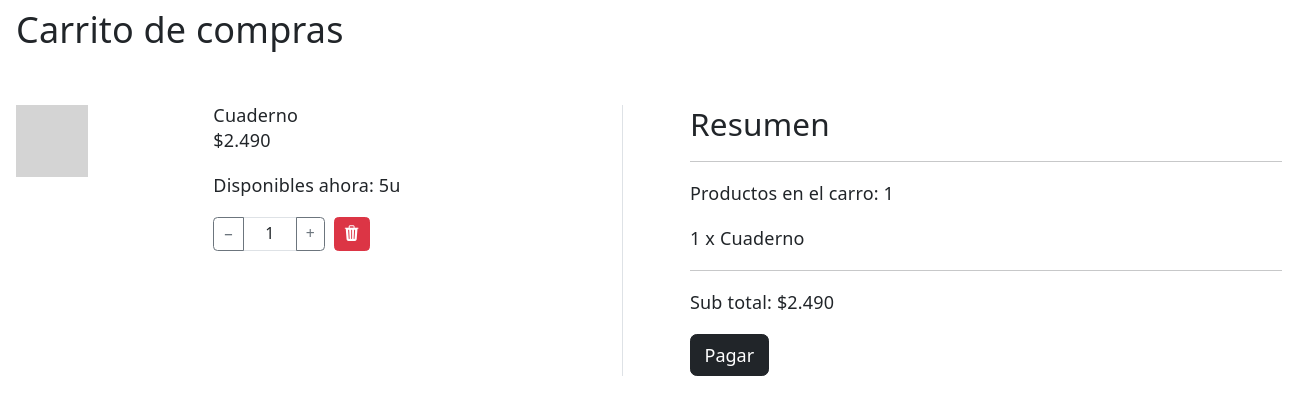
Test: Cart › Aumenta la cantidad con + y actualiza el subtotal
The image size is (1299, 393).
Click the button "+".
click(310, 234)  # box [296,217,325,251]
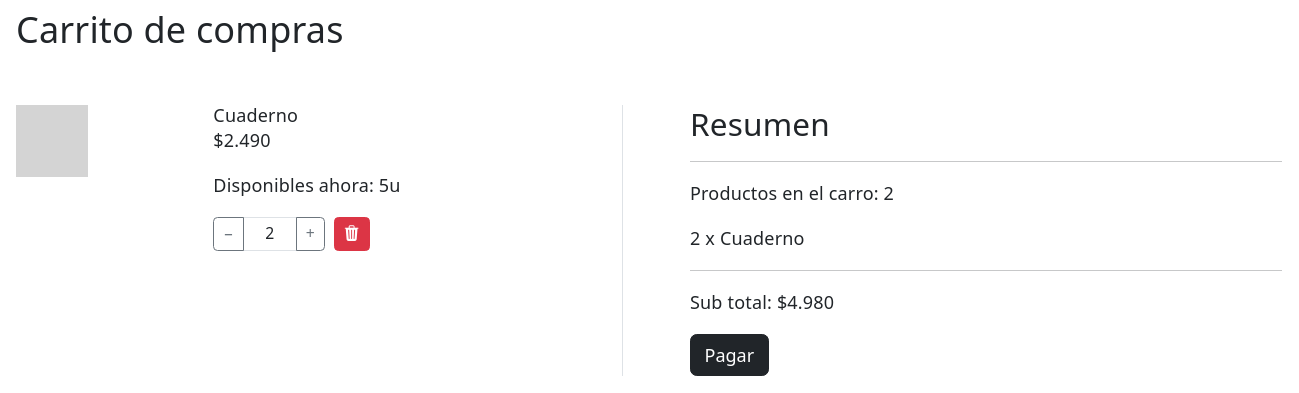
expect the number field showing "2" is shown: met, box [243,217,297,251]
expect the text "Sub total: $4.980" is shown: met, box [690,290,834,314]
